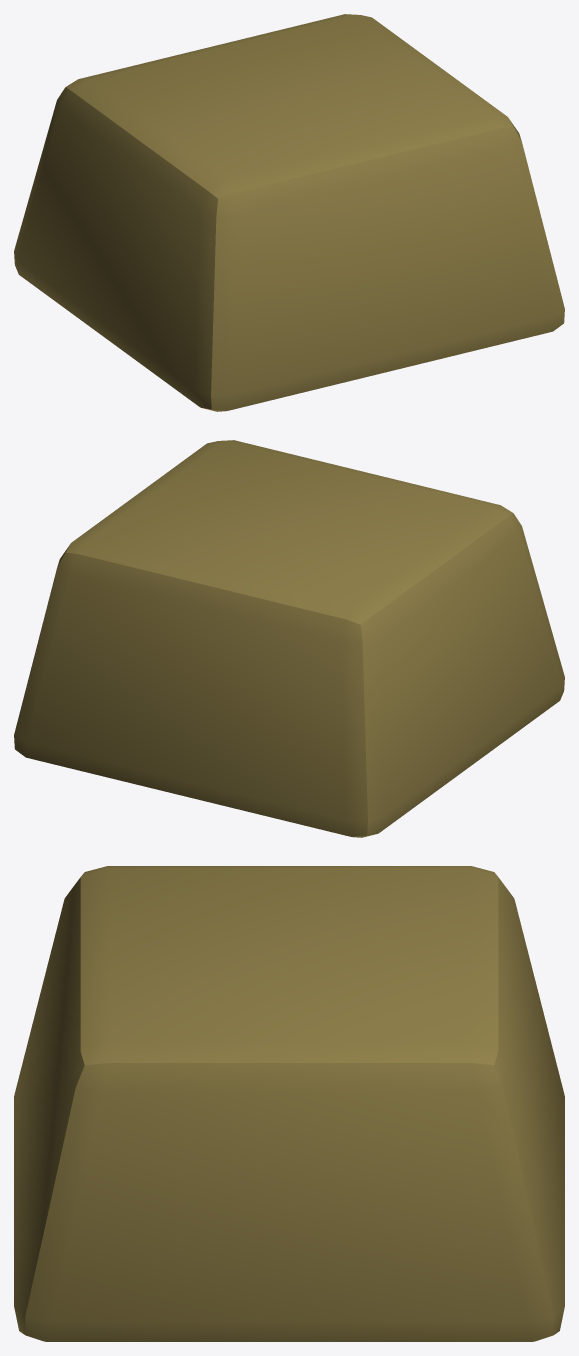
File: Rock1.glb
3 views of the same model, one above another, from view 1: azimuth 30°, elevation 25°; view 2: azimuth 150°, elevation 25°; view 3: azimuth 270°, elevation 25° (orthographic). The views are drawn at different scales.
Parts seen in each view (by area): view 1: Rock1; view 2: Rock1; view 3: Rock1.
Part boxes in pixels (<box>): Rock1: <box>14,14,564,411</box>; Rock1: <box>14,440,564,837</box>; Rock1: <box>14,866,564,1341</box>.
Bounding box in the file's own units: 0.9339 × 0.5043 × 0.9025.
Materials: 1 (1 with a texture image).
